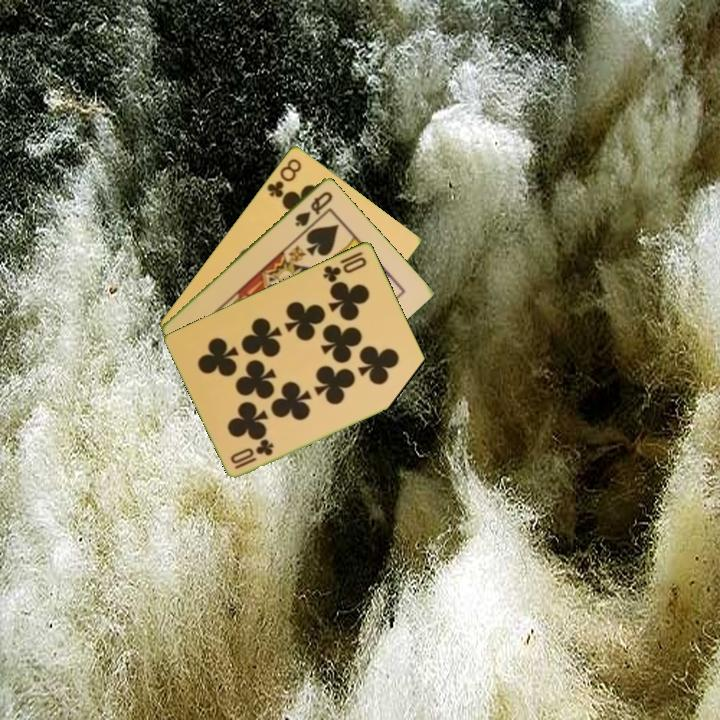10c: (319, 248, 370, 285), (227, 436, 277, 472)
8c: (263, 154, 304, 200)
Qs: (291, 187, 336, 229)
